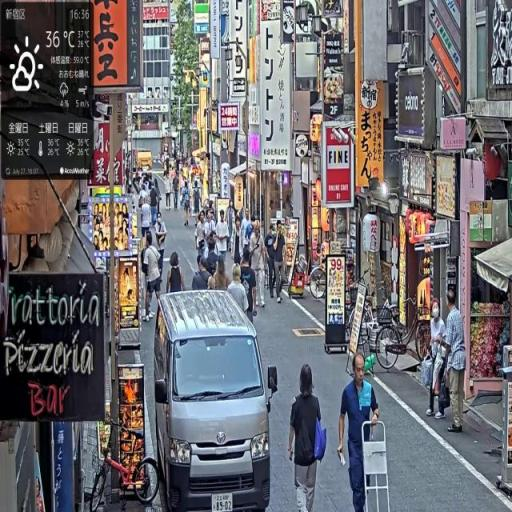person: (338, 354, 383, 512), (288, 362, 327, 512), (439, 289, 470, 434), (142, 232, 163, 327), (271, 220, 288, 304), (252, 224, 268, 311), (228, 264, 251, 319), (155, 209, 168, 285), (167, 252, 189, 293), (216, 209, 231, 267), (191, 259, 213, 292), (212, 257, 231, 291)
